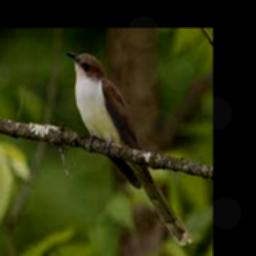Cuckoo: (65, 51, 192, 246)
